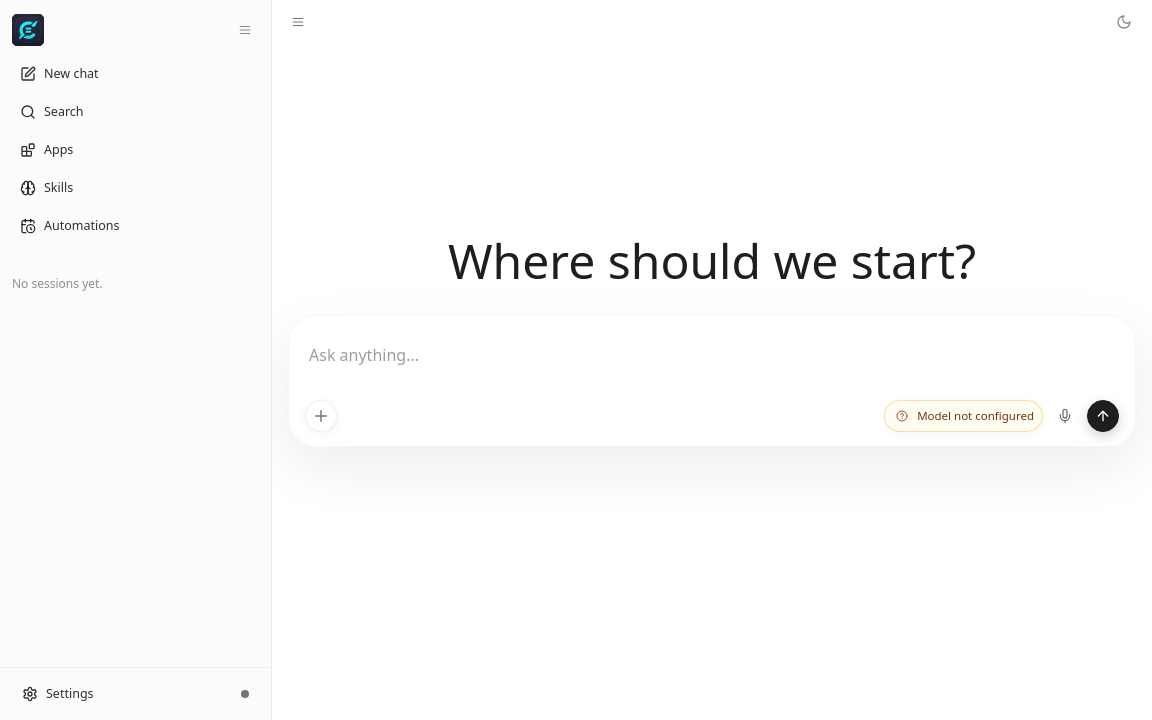
Test case: App layout › updates the URL hash when switching settings sections
Click the button "Settings": coordinates (118, 694) 10,678 -> 225,710
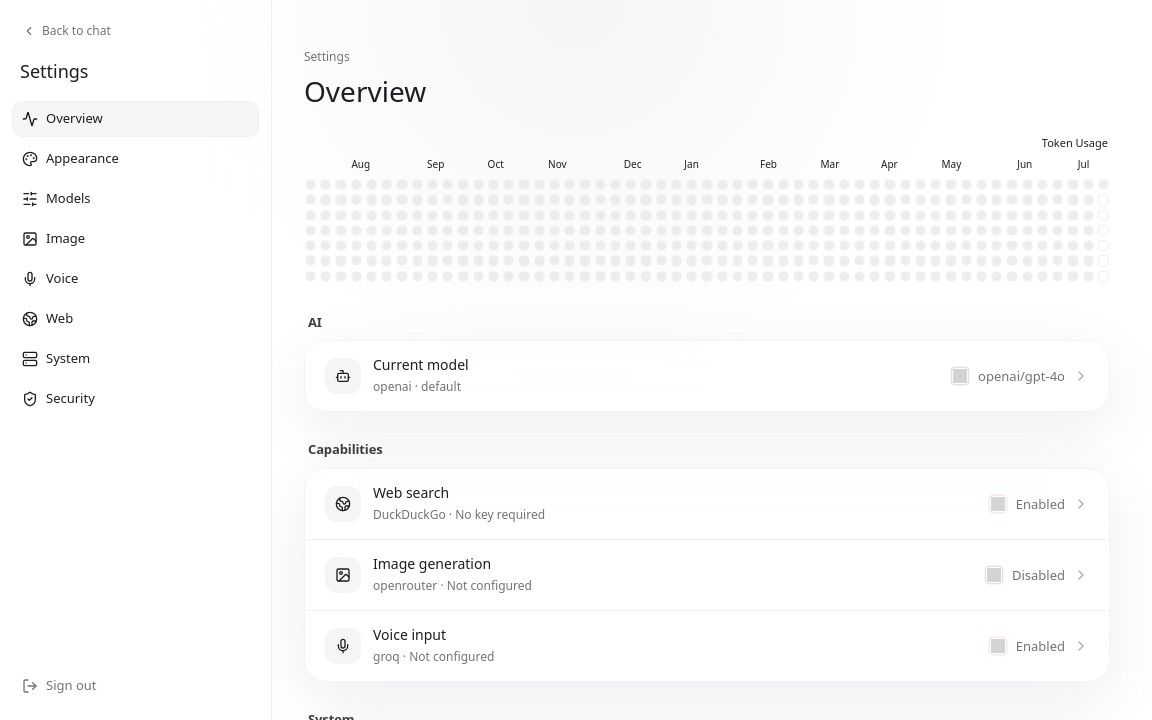
Check: the heading "Overview" is shown, box 304,72 -> 426,110
Click the button "Models": coordinates (136, 199) 12,181 -> 259,217
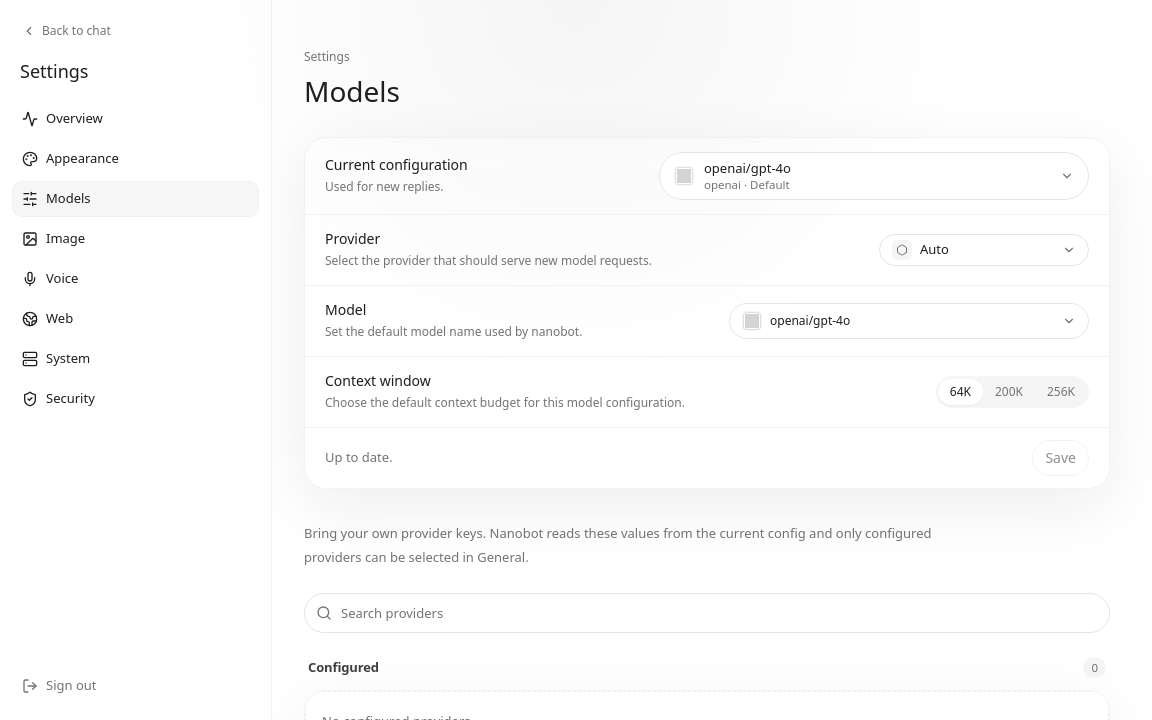
Check: the heading "Models" is shown, box 304,72 -> 400,110
Click the button "Voice": coordinates (136, 279) 12,261 -> 259,297
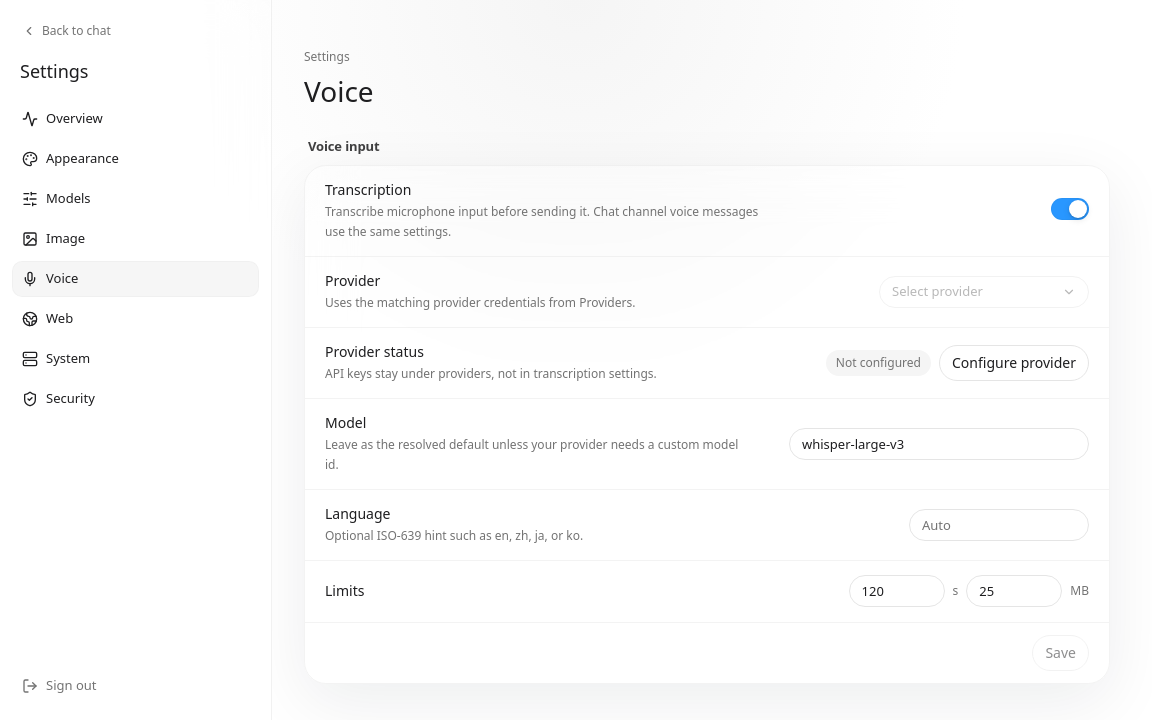
Check: the heading "Voice input" is shown, box 308,137 -> 379,155
